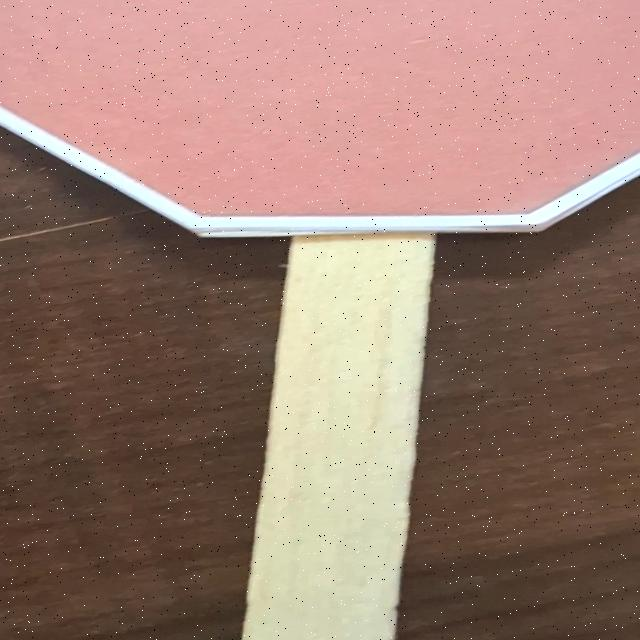Stop: (0, 0, 640, 258)
